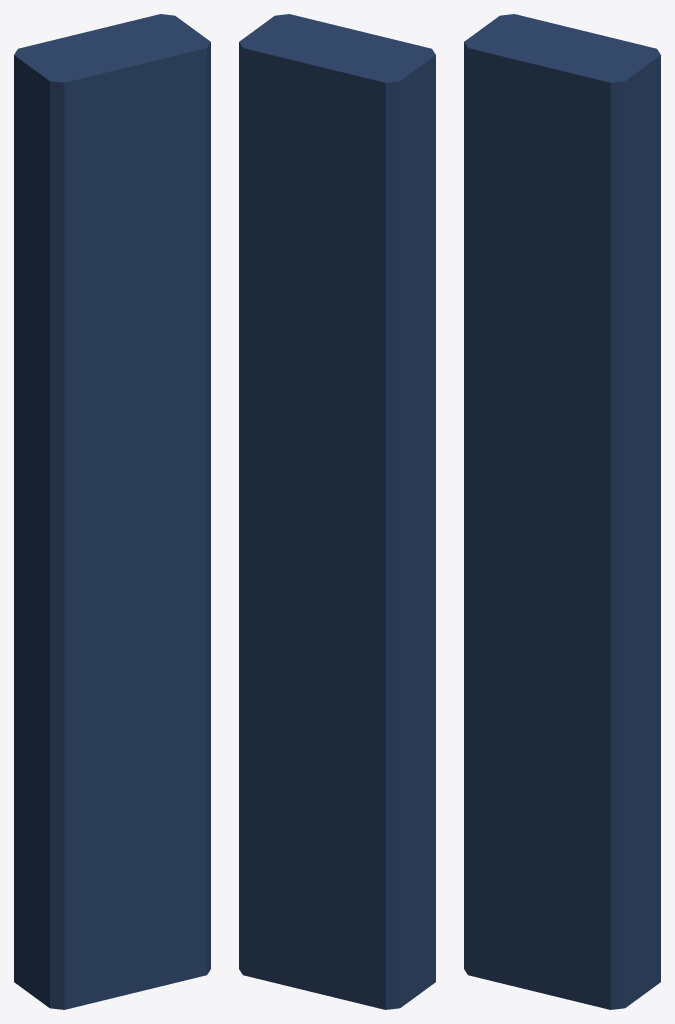
File: SM_MM_W02_Body_01.fbx
3 renders of one model, left to right at view 1: azimuth 30°, elevation 25°; view 2: azimuth 150°, elevation 25°; view 3: azimuth 330°, elevation 25°, orthographic.
Visible parts, largest first — view 1: SM_MM_W02_Body_01; view 2: SM_MM_W02_Body_01; view 3: SM_MM_W02_Body_01.
Part boxes in pixels (x1,y1,x2,y2): SM_MM_W02_Body_01: (14,14,210,1009); SM_MM_W02_Body_01: (239,14,435,1009); SM_MM_W02_Body_01: (464,14,660,1009).
Size of the model in its own units: 20 by 10 by 110.
